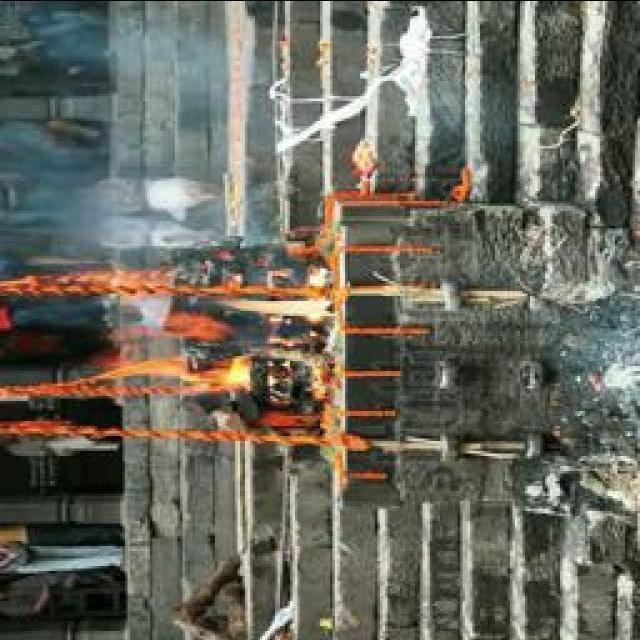Fire: (91, 289, 341, 397)
